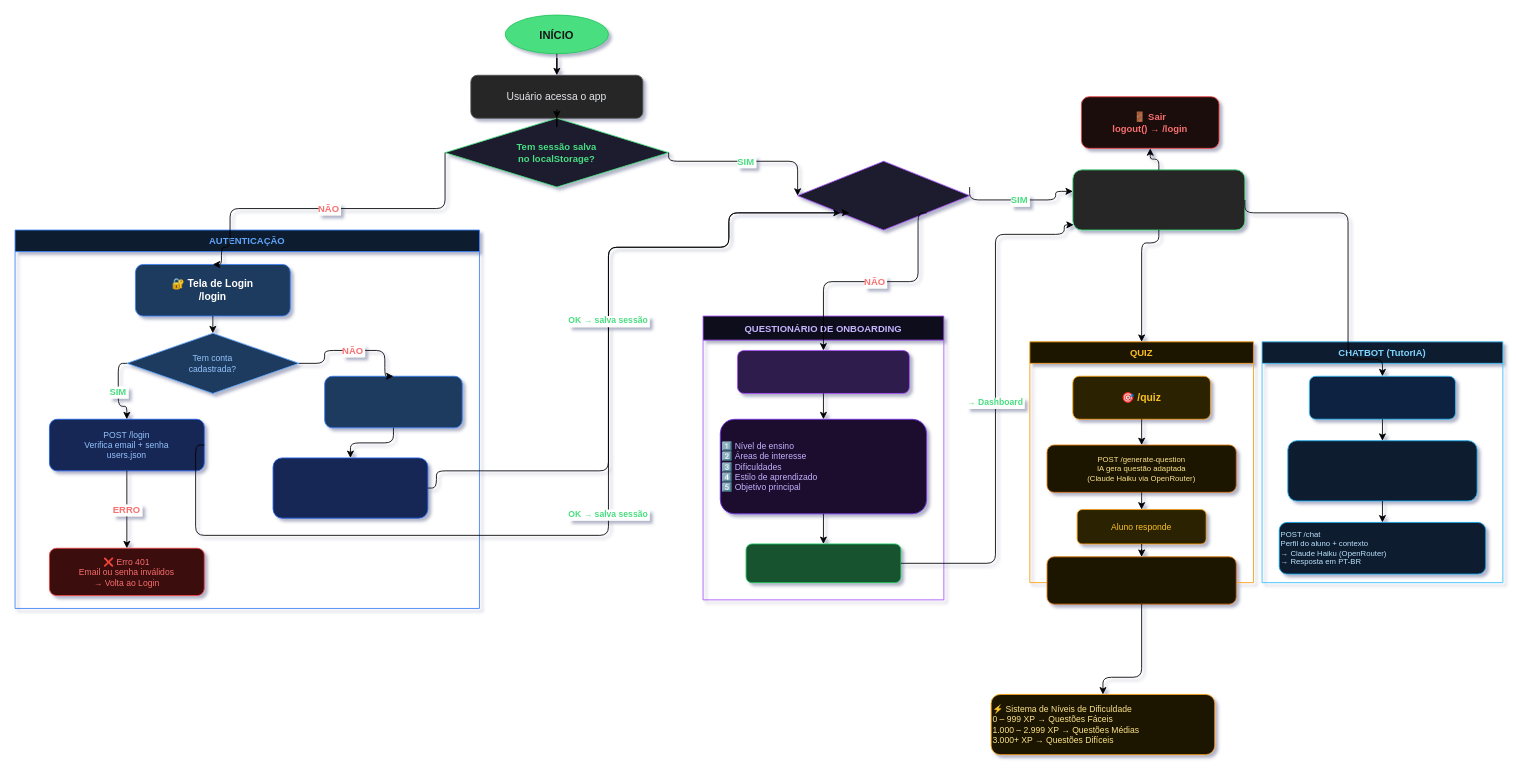
Some shapes in this 1523 by 775 pixel diagram are drawn without their labels. Here are the shapes that lost their labels. From the top down, the centre of each, then its label:
At (883,195): "onboarded? (questionário)".
At (1158,199): "🏠 Dashboard /dashboard".
At (823,371): "📋 /questionario".
At (393,401): "📝 Cadastro /signup".
At (1382,397): "🤖 /chatbot".
At (350,487): "POST /signup Cria usuário onboarded: false | xp: 0".
At (1382,470): "Modo Tutor (normal) ───────────── Modo Professor (Método Socrático)".
At (823,563): "POST /sync-user onboarded: true".
At (1141,580): "✅ Certo → +50 XP ❌ Errado → +10 XP 📈 Atualiza progresso".
